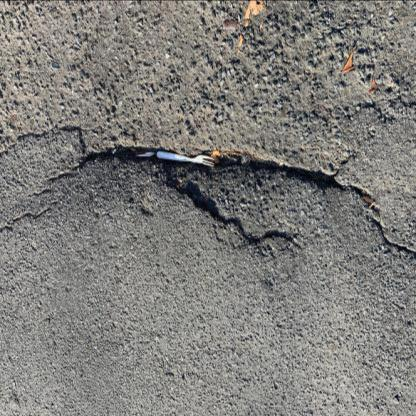Bottle: (242, 151, 251, 164)
Other litter: (157, 151, 215, 166)
Other plastic: (135, 152, 155, 157)
